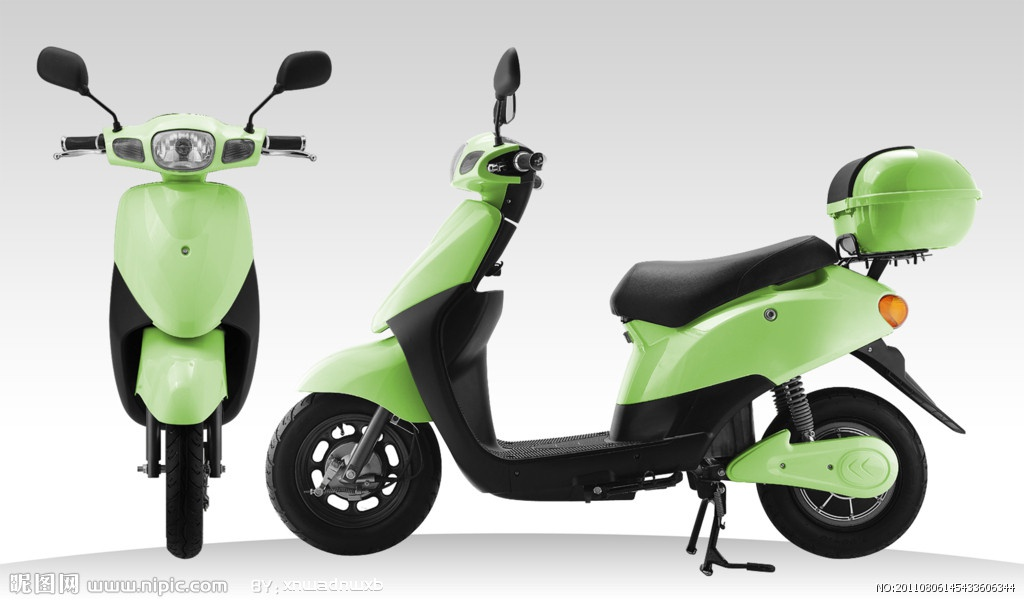non-vehicle: (276, 115, 981, 559), (55, 111, 286, 561)
